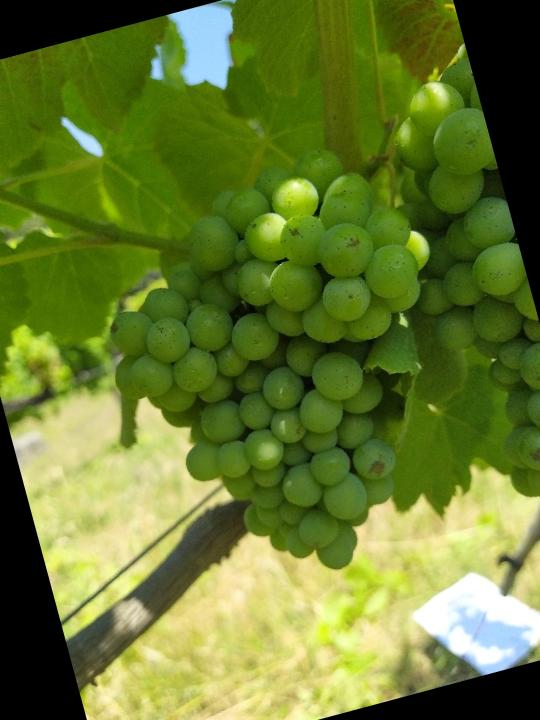grape: (66, 125, 506, 620)
